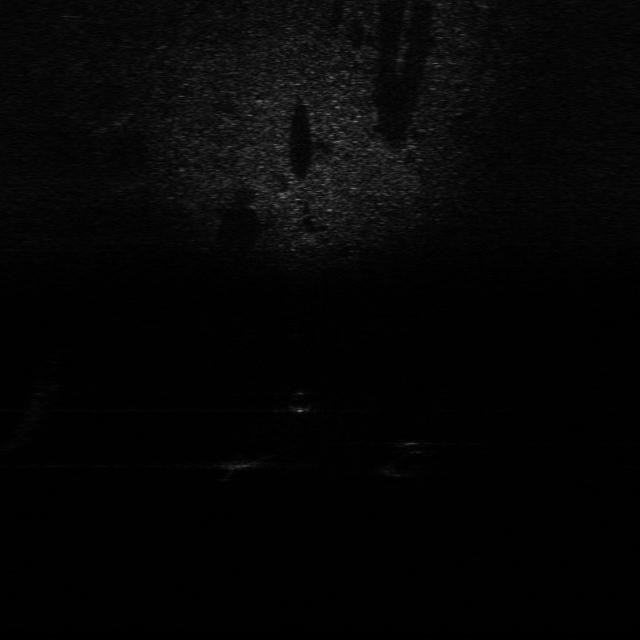ball: (283, 388, 319, 416)
square cage: (212, 448, 274, 482)
tyre: (373, 437, 439, 481)
